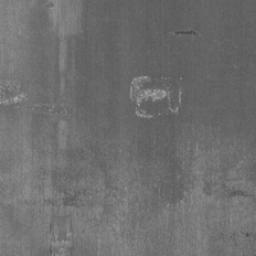Rolled pit: (0, 82, 67, 118), (130, 76, 182, 119), (56, 0, 84, 36), (50, 215, 72, 256), (174, 30, 197, 35)
